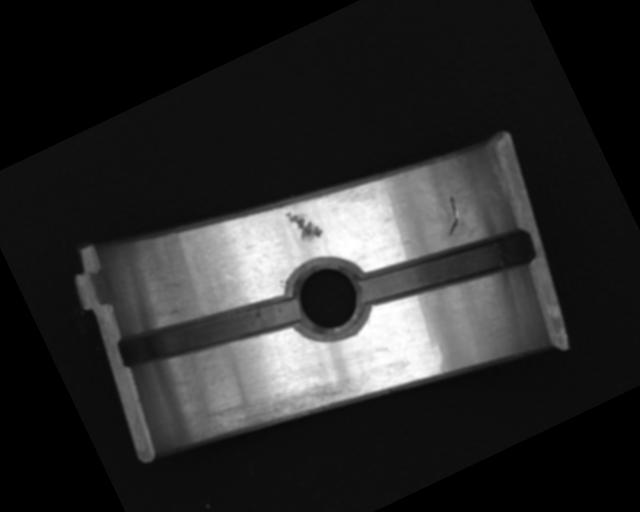bruise: (283, 202, 324, 248)
gap: (114, 266, 303, 397), (355, 206, 538, 332)
hole: (277, 248, 379, 351)
nick: (434, 194, 469, 236)
scratch: (205, 350, 363, 459)
